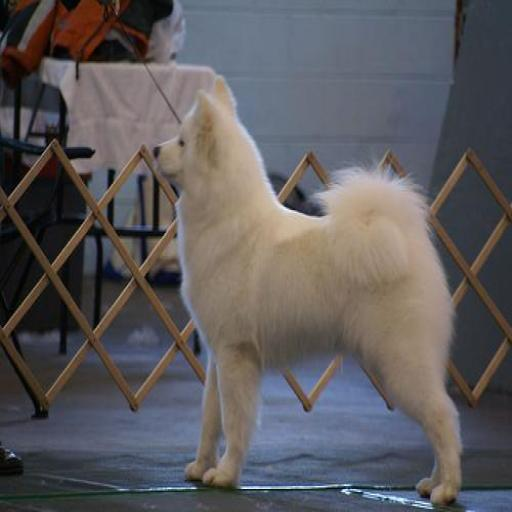dog_face: (152, 88, 234, 191)
